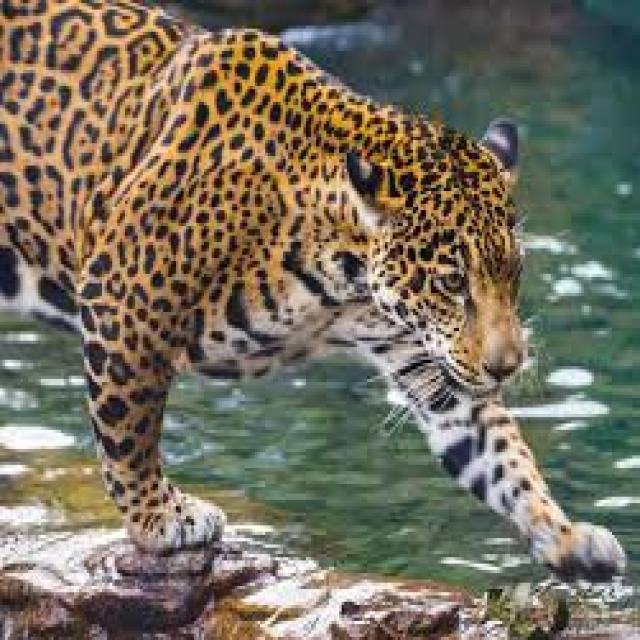Jaguar: (2, 0, 624, 567)
